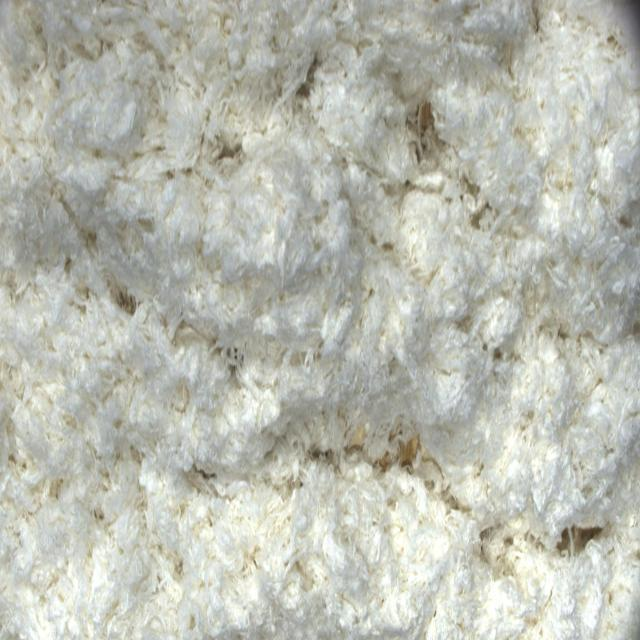dust: (562, 505, 600, 579), (390, 426, 425, 490), (407, 106, 441, 170)
